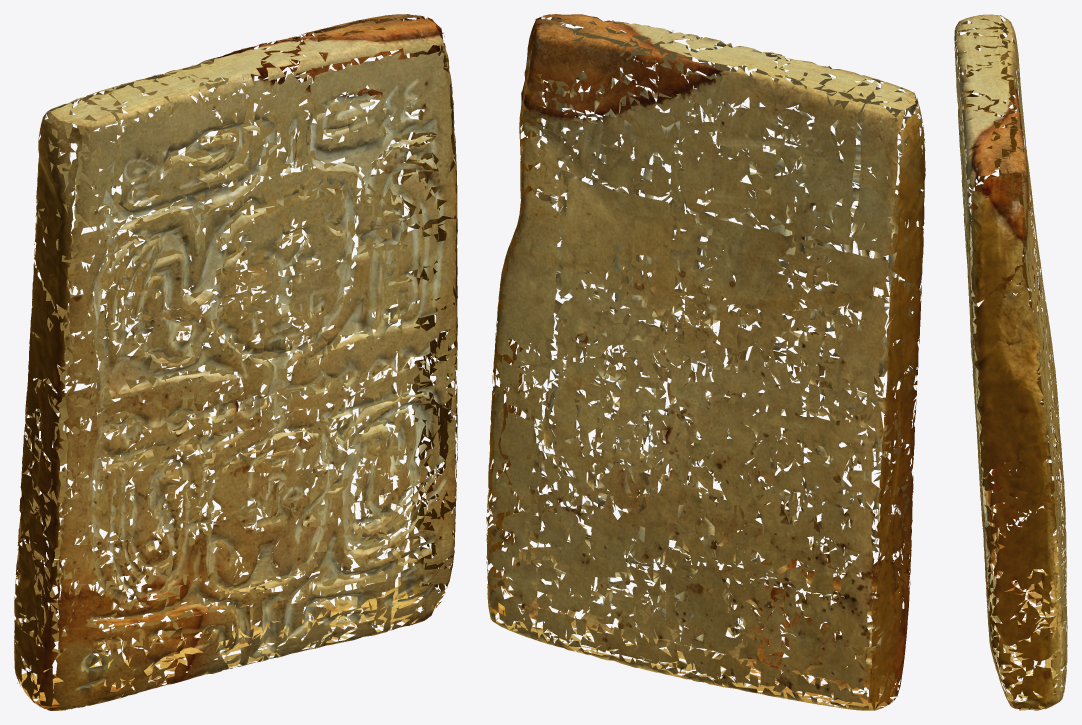
The model's file is tablette-gravee.glb.
The picture shows the model from 3 angles, left to right: view 1: azimuth 30°, elevation 25°; view 2: azimuth 150°, elevation 25°; view 3: azimuth 270°, elevation 25°; orthographic projection. The views are drawn at different scales.
Visible parts, largest first — view 1: Object_2, Object_5, Object_4, Object_3, Object_6, Object_7; view 2: Object_2, Object_3, Object_5, Object_4, Object_6, Object_7; view 3: Object_4, Object_5, Object_3, Object_2, Object_6, Object_7.
Boxes of the visible parts, <box> form: Object_2: <box>14,31,411,644</box>; Object_5: <box>14,346,457,710</box>; Object_4: <box>227,14,457,579</box>; Object_3: <box>25,40,457,586</box>; Object_6: <box>14,379,457,700</box>; Object_7: <box>236,40,456,622</box>; Object_2: <box>521,37,925,689</box>; Object_3: <box>488,42,925,577</box>; Object_5: <box>486,343,913,710</box>; Object_4: <box>495,14,749,618</box>; Object_6: <box>486,361,911,710</box>; Object_7: <box>487,45,744,637</box>; Object_4: <box>962,103,1066,651</box>; Object_5: <box>977,309,1067,709</box>; Object_3: <box>954,14,1063,689</box>; Object_2: <box>954,15,1066,618</box>; Object_6: <box>976,312,1067,710</box>; Object_7: <box>977,103,1065,688</box>.
Bounding box in the file's own units: 0.1072 × 0.1535 × 0.0292.
Materials: 1 (1 with a texture image).
